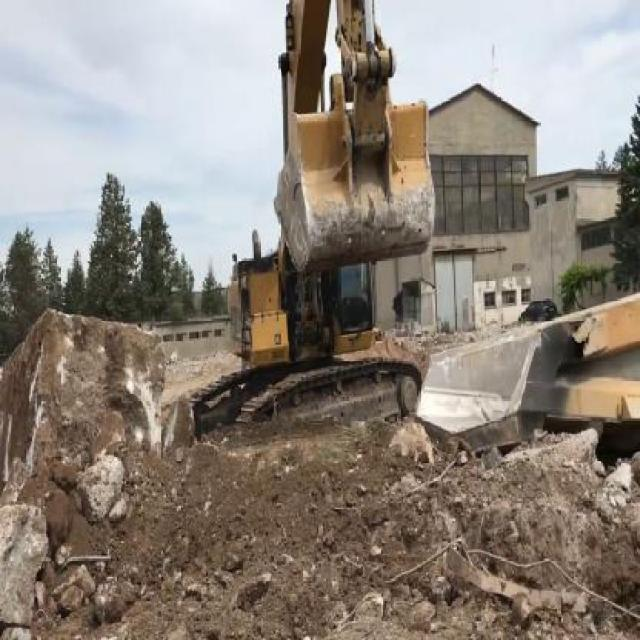Excavator: (186, 0, 437, 446)
